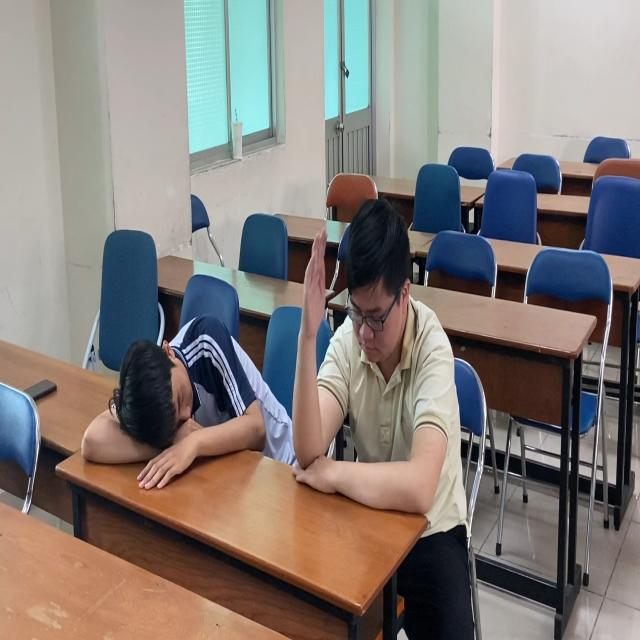raise_hand: (292, 197, 457, 521)
sleep: (81, 316, 279, 503)
